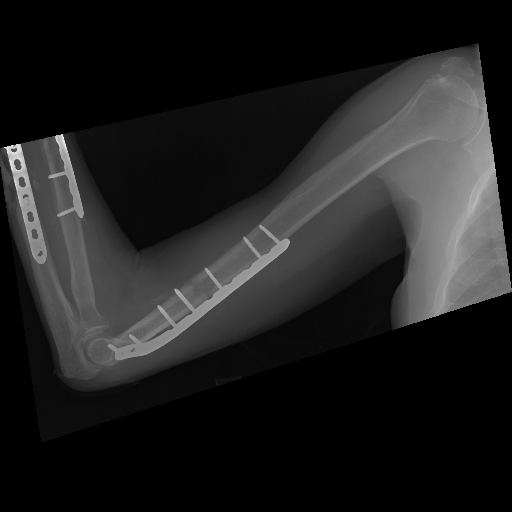implant: (112, 217, 292, 361), (6, 143, 47, 262), (44, 133, 84, 221)
